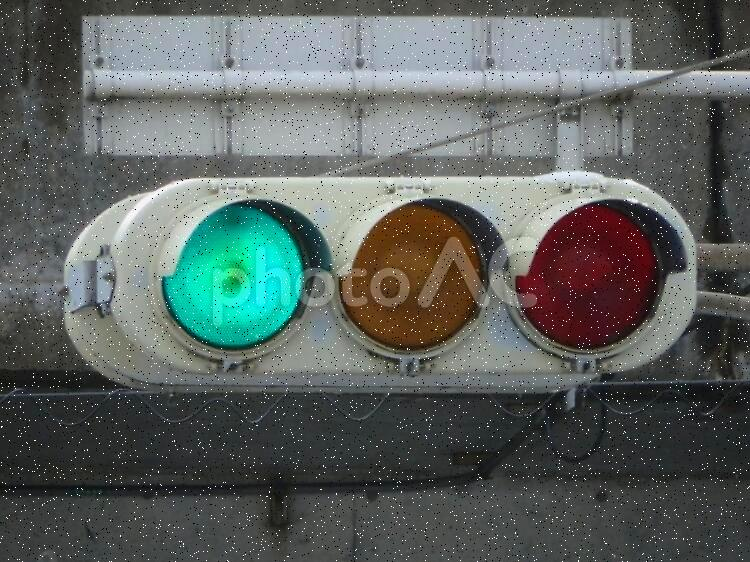cars: (115, 176, 697, 375)
